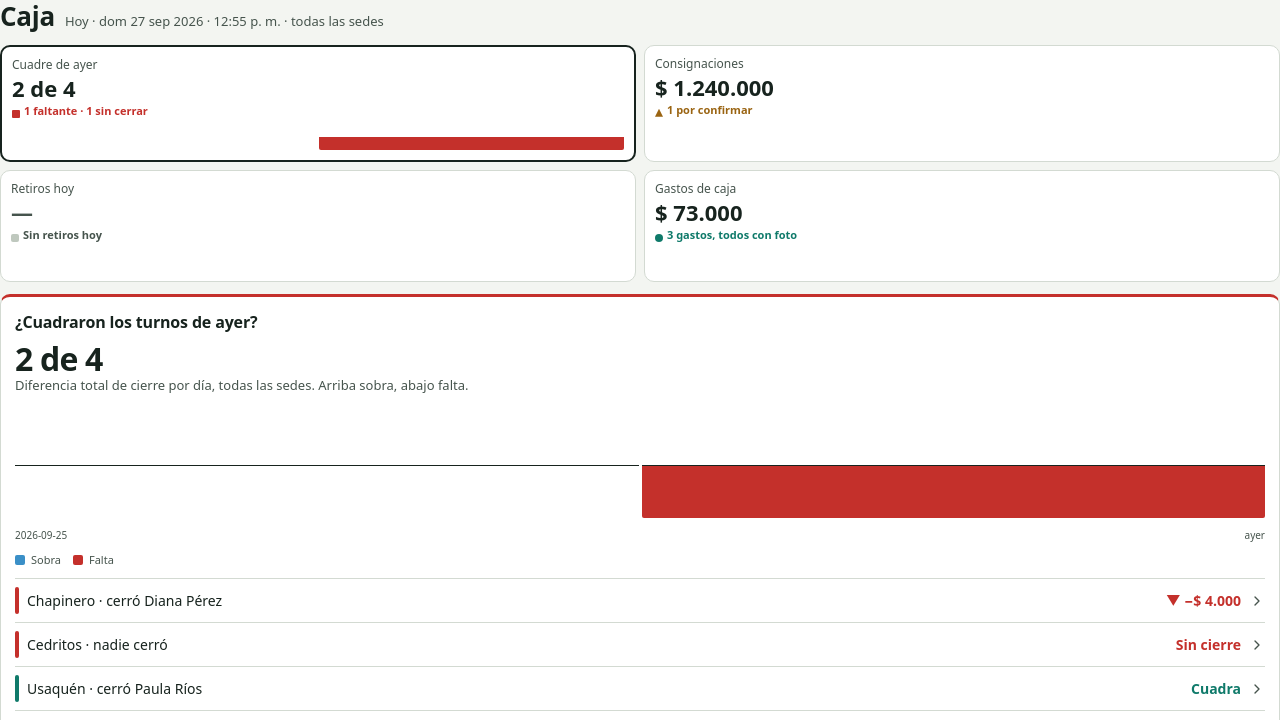
Test: Caja en el celular › tocar otra tarjeta cambia el detalle (estado local)
Click the button "Consignaciones $ 1.240.000 1 por confirmar" at (699, 63), box top-left (644, 44), bottom-right (1279, 162)
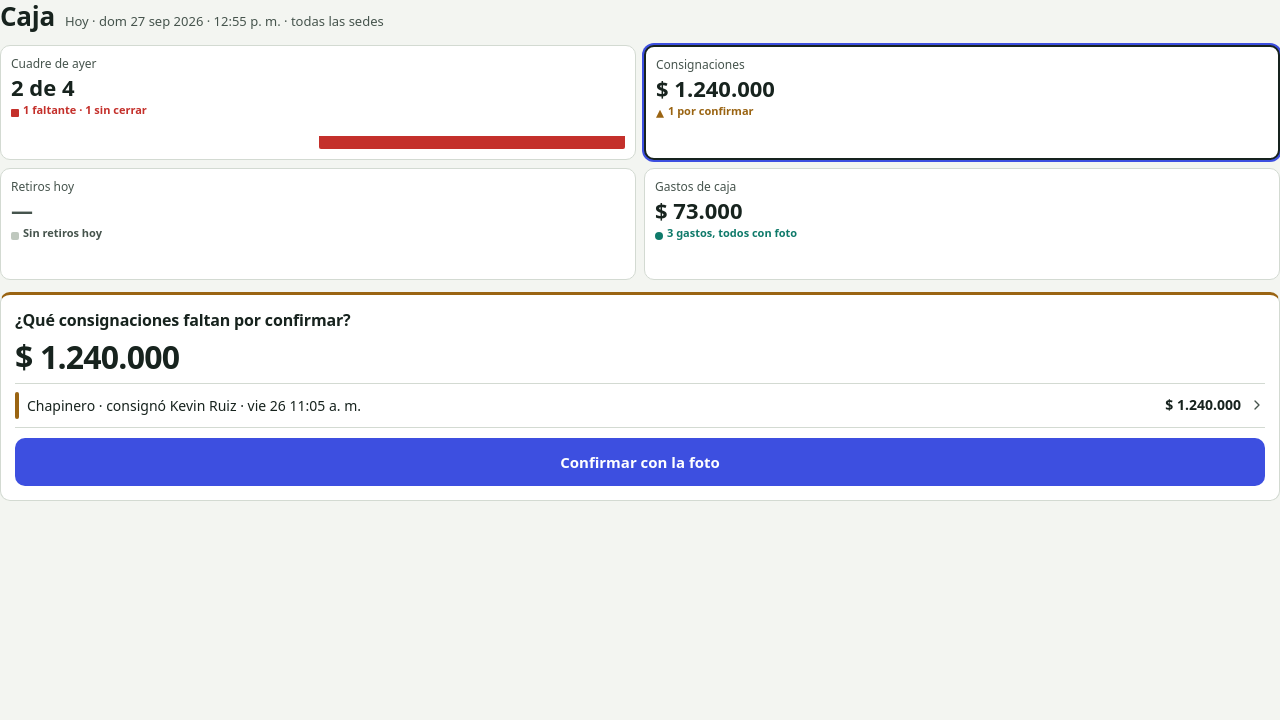
Result: the 2nd text "$ 1.240.000" is shown at top-left (15, 335), bottom-right (179, 378)
